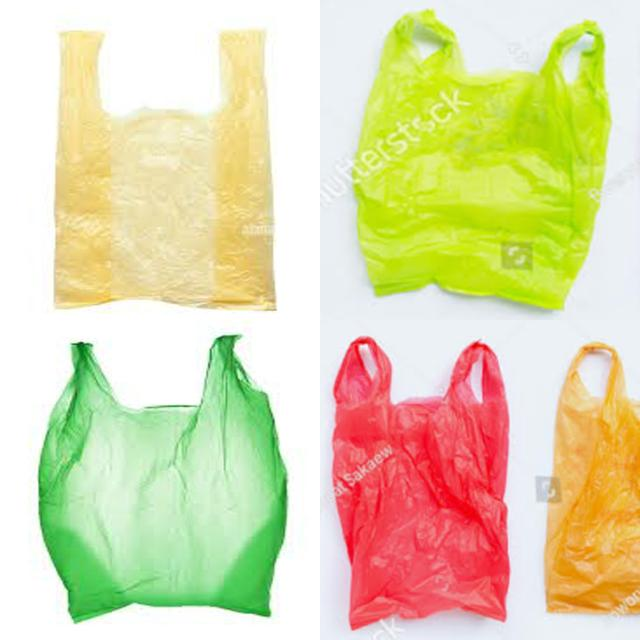Single-layer Plastic: (352, 10, 611, 309), (39, 335, 286, 621), (55, 31, 275, 309), (332, 338, 509, 629), (544, 342, 640, 615)
